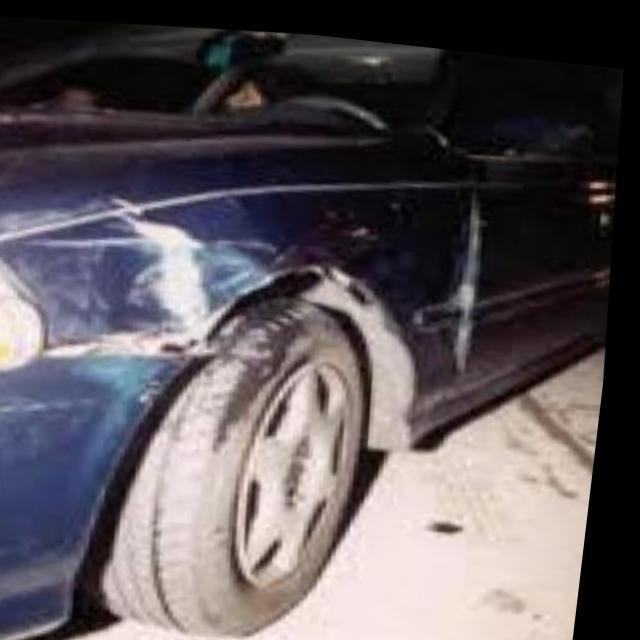dent: (5, 175, 274, 400)
rub: (0, 383, 99, 498)
scratch: (441, 189, 502, 362)
